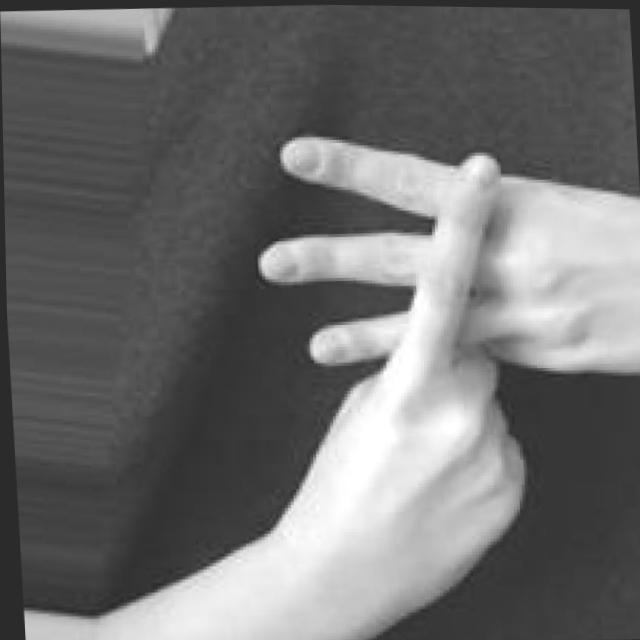E: (246, 106, 640, 640)
